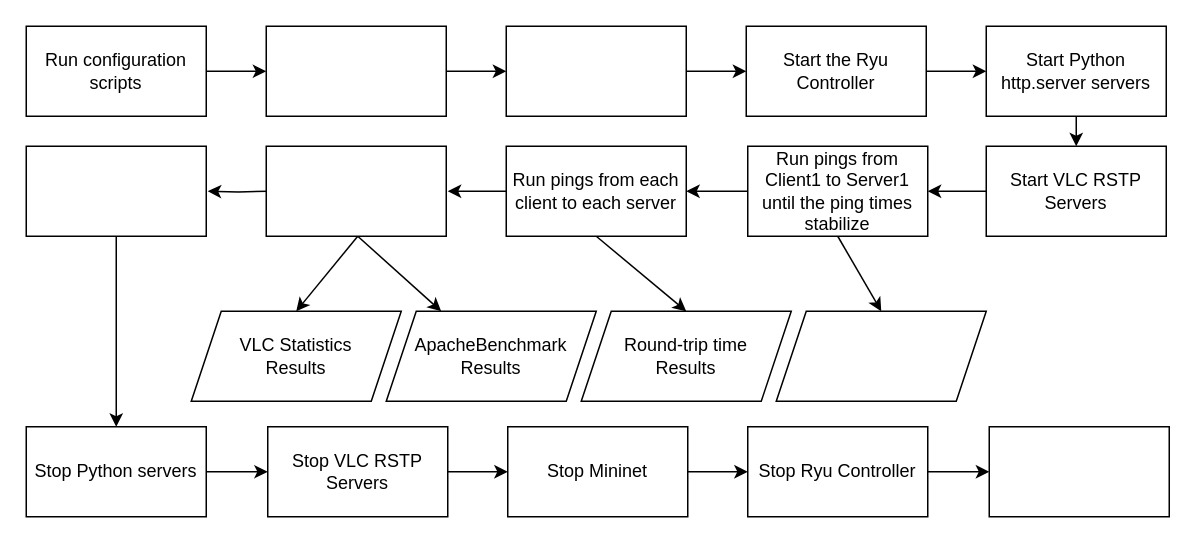
Some shapes in this 1196 by 543 pixel diagram are drawn without their labels. The shapes that lost their labels are listed below. From the top down, each one's box as (x1, y1, x2, y2) in pixels, then its label:
(265, 25, 446, 116): Run Mininet
(505, 25, 686, 116): Set QoS settings through ovs-ofctl
(25, 145, 206, 236): Run Apache-Benchmark and VLC clients simultaneously
(265, 145, 446, 236): Run IFSTAT Command for the core switch port
(775, 310, 986, 401): Convergence Time Results
(988, 425, 1169, 517): Delete QoS related settings
